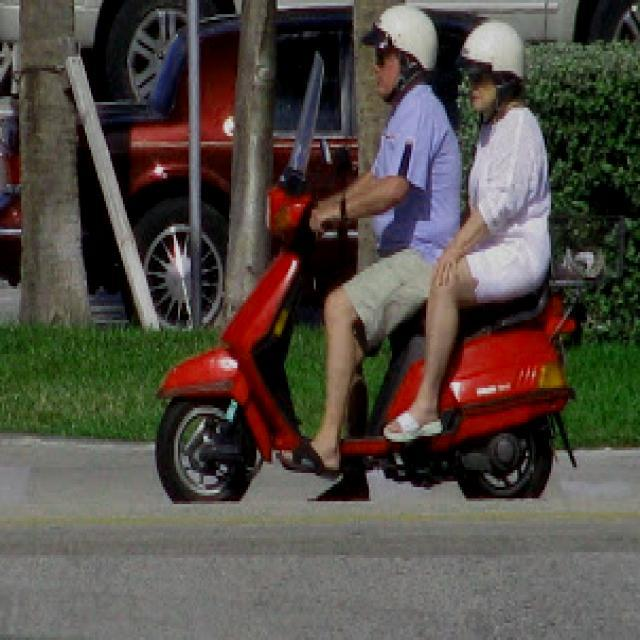Helmet: (356, 0, 441, 105)
